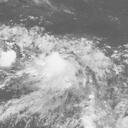cyclone: (30, 42, 83, 96)
